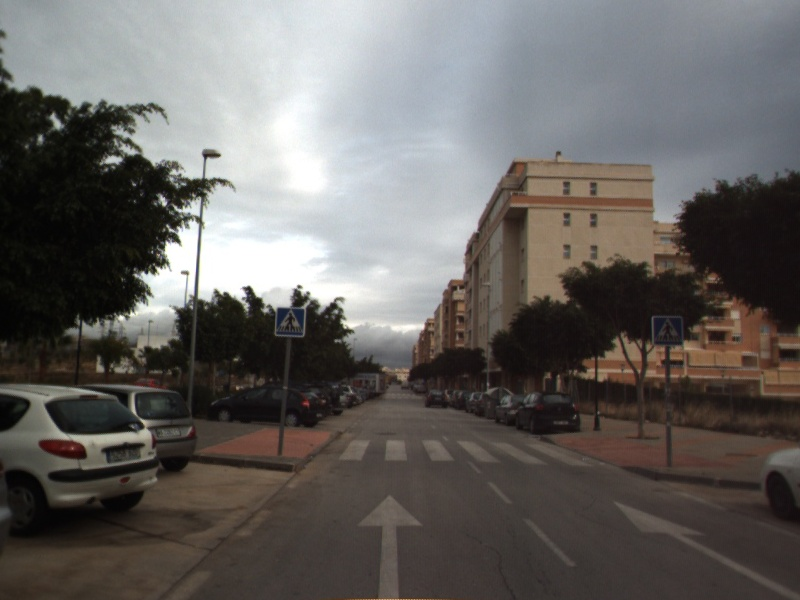STRAIGHT: (612, 500, 800, 600), (355, 493, 425, 600)
